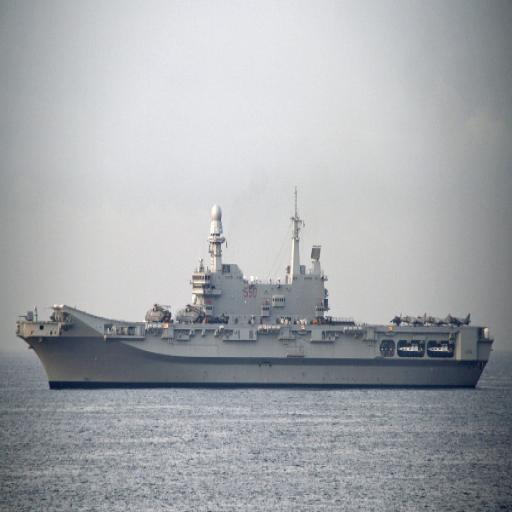Portanaves: (16, 182, 497, 396)
